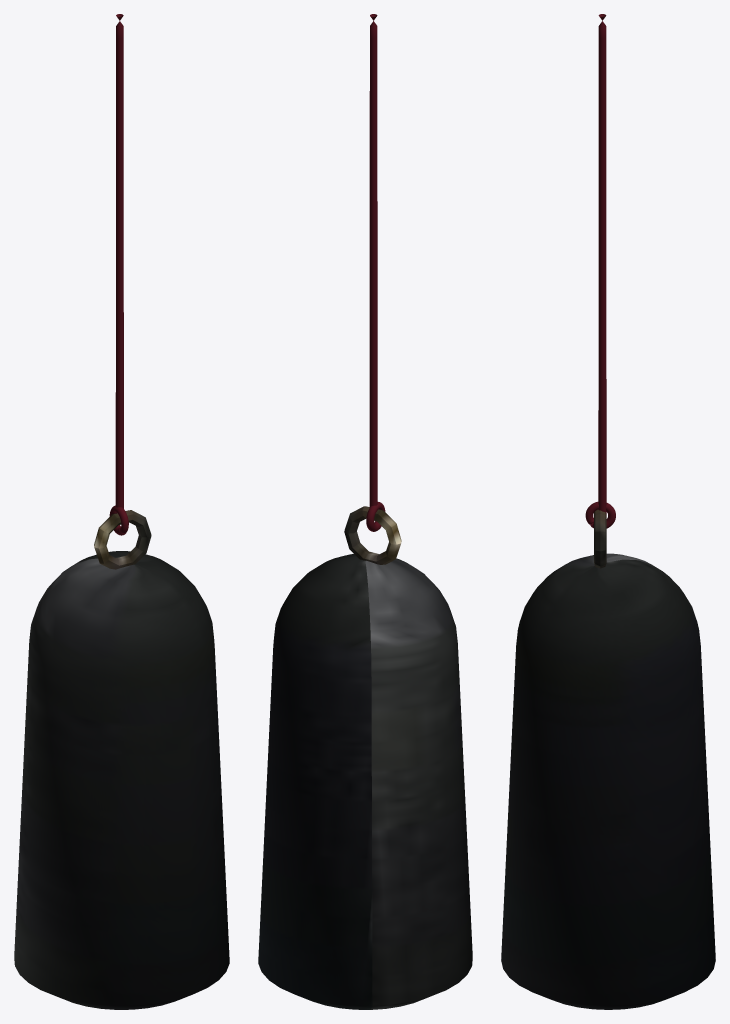
The model's file is weight.glb.
3 views of the same model, side by side, from view 1: azimuth 30°, elevation 25°; view 2: azimuth 150°, elevation 25°; view 3: azimuth 270°, elevation 25° (orthographic).
Visible parts, largest first — view 1: Sphere.002, NurbsCircle.001; view 2: Sphere.002, NurbsCircle.001; view 3: Sphere.002, NurbsCircle.001.
Boxes of the visible parts, bbox=[...] form: Sphere.002: bbox=[14, 510, 229, 1009]; NurbsCircle.001: bbox=[109, 14, 128, 535]; Sphere.002: bbox=[258, 506, 472, 1009]; NurbsCircle.001: bbox=[366, 14, 385, 531]; Sphere.002: bbox=[501, 509, 715, 1009]; NurbsCircle.001: bbox=[585, 14, 615, 528].
Size of the model in its own units: 0.3912 by 1.94 by 0.3912.
2 materials, 1 textured.
